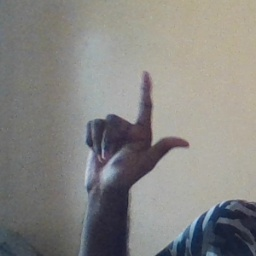L: (82, 71, 194, 188)
